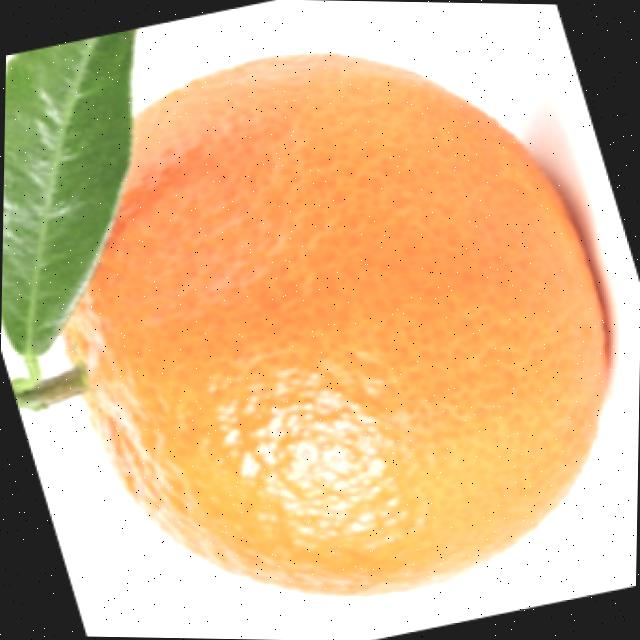orange: (51, 42, 614, 598)
